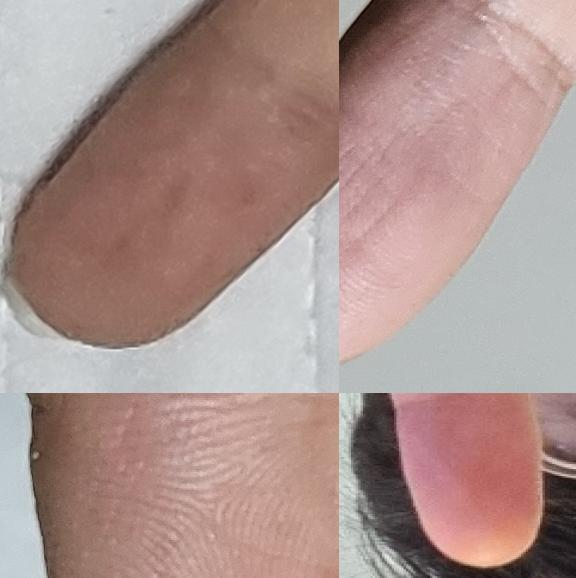Fingerprints: (10, 26, 339, 348), (339, 0, 557, 365), (46, 393, 339, 578), (395, 393, 542, 567)
